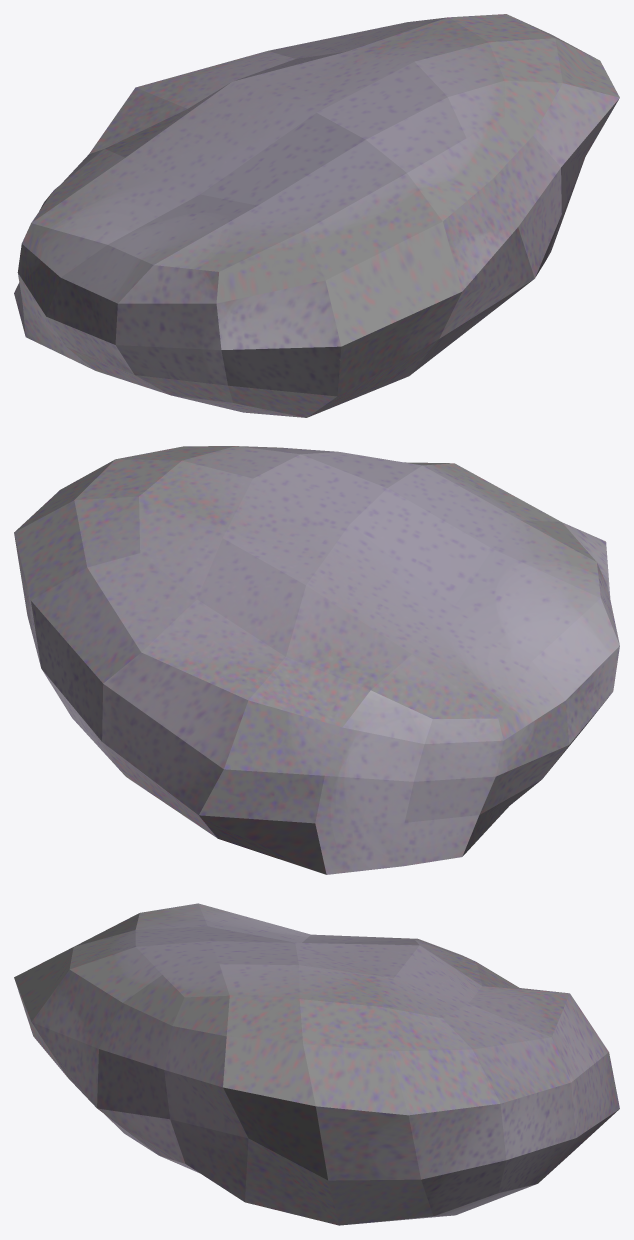
File: rock2.fbx
The picture shows the model from 3 angles, top to bottom: view 1: azimuth 30°, elevation 25°; view 2: azimuth 150°, elevation 25°; view 3: azimuth 270°, elevation 25°; orthographic projection. The views are drawn at different scales.
Visible parts, largest first — view 1: Cube; view 2: Cube; view 3: Cube.
Boxes of the visible parts, x1=… form: Cube: x1=14, y1=14, x2=619, y2=417; Cube: x1=14, y1=446, x2=619, y2=874; Cube: x1=14, y1=903, x2=619, y2=1225.
Size of the model in its own units: 156 by 77.94 by 157.
1 material, 1 textured.
